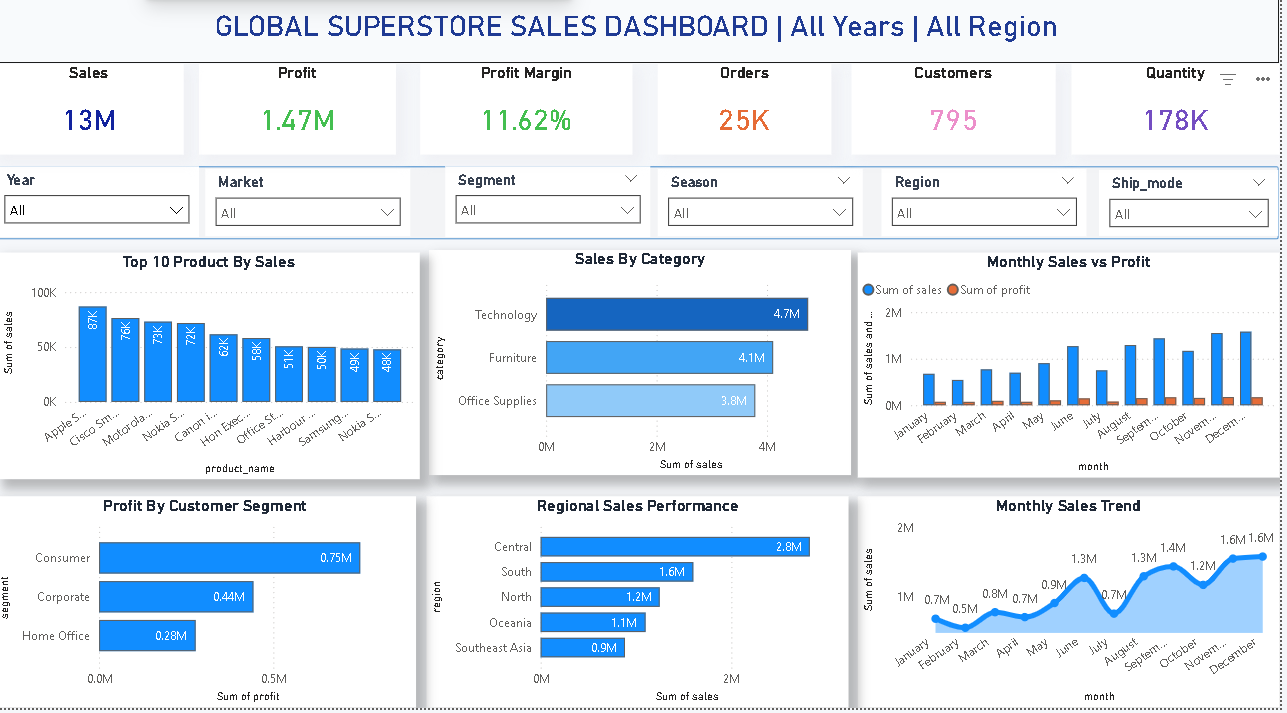

What the dashboard file says about the page in this screenshot:
{"tool":"powerbi","page":{"name":"Sales Dashboard","canvas":[1280,720],"ordinal":0},"visuals":[{"type":"shape","box":[0,180,1278.6,72.9],"z":0},{"type":"slicer","fields":{"Values":["super_store_raw_data - super_store_raw_data csv (4) - Super_Store_Data (1).season"]},"box":[660,182.9,204.3,67.1],"z":1000},{"type":"slicer","fields":{"Values":["super_store_raw_data - super_store_raw_data csv (4) - Super_Store_Data (1).market"]},"box":[210,182.9,204.3,67.1],"z":2000},{"type":"slicer","fields":{"Values":["super_store_raw_data - super_store_raw_data csv (4) - Super_Store_Data (1).year"]},"box":[0,180,204.3,70],"z":3000},{"type":"slicer","fields":{"Values":["super_store_raw_data - super_store_raw_data csv (4) - Super_Store_Data (1).ship_mode"]},"box":[1100,184.3,178.6,65.7],"z":4000},{"type":"slicer","fields":{"Values":["super_store_raw_data - super_store_raw_data csv (4) - Super_Store_Data (1).segment"]},"box":[448.6,180,204,70],"z":5000},{"type":"slicer","fields":{"Values":["super_store_raw_data - super_store_raw_data csv (4) - Super_Store_Data (1).region"]},"box":[882.9,182.9,204.3,67.1],"z":6000},{"type":"card","title":"Orders","fields":{"Values":["super_store_raw_data - super_store_raw_data csv (4) - Super_Store_Data (1).Total_Orders"]},"box":[660,78.6,172.9,90],"z":7000},{"type":"card","title":"Profit","fields":{"Values":["super_store_raw_data - super_store_raw_data csv (4) - Super_Store_Data (1).Total_Profit"]},"box":[204.3,78.6,195.7,90],"z":8000},{"type":"card","title":"Sales","fields":{"Values":["super_store_raw_data - super_store_raw_data csv (4) - Super_Store_Data (1).Total_Sales"]},"box":[0,78.6,188.6,90],"z":9000},{"type":"card","title":"Customers","fields":{"Values":["super_store_raw_data - super_store_raw_data csv (4) - Super_Store_Data (1).Total_Custommers"]},"box":[852.9,78.6,202.9,90],"z":10000},{"type":"card","title":"Quantity","fields":{"Values":["super_store_raw_data - super_store_raw_data csv (4) - Super_Store_Data (1).Total_Quantity"]},"box":[1072.9,78.6,207.1,90],"z":11000},{"type":"barChart","title":"Sales By Category","fields":{"Category":["super_store_raw_data - super_store_raw_data csv (4) - Super_Store_Data (1).category"],"Y":["Sum(super_store_raw_data - super_store_raw_data csv (4) - Super_Store_Data (1).sales)"]},"box":[432.9,264.3,420,224.3],"z":12000},{"type":"card","title":"Profit Margin","fields":{"Values":["super_store_raw_data - super_store_raw_data csv (4) - Super_Store_Data (1).Profit_Margin %"]},"box":[424.3,78.6,211.4,90],"z":13000},{"type":"lineChart","title":"Monthly Sales Trend  ","fields":{"Y":["Sum(super_store_raw_data - super_store_raw_data csv (4) - Super_Store_Data (1).sales)"],"Category":["super_store_raw_data - super_store_raw_data csv (4) - Super_Store_Data (1).month"]},"box":[860,508.6,420,210],"z":14000},{"type":"barChart","title":"Regional Sales Performance","fields":{"Category":["super_store_raw_data - super_store_raw_data csv (4) - Super_Store_Data (1).region"],"Y":["Sum(super_store_raw_data - super_store_raw_data csv (4) - Super_Store_Data (1).sales)"]},"box":[430,508.6,420,210],"z":15000},{"type":"clusteredColumnChart","title":"Top 10 Product By Sales","fields":{"Category":["super_store_raw_data - super_store_raw_data csv (4) - Super_Store_Data (1).product_name"],"Y":["Sum(super_store_raw_data - super_store_raw_data csv (4) - Super_Store_Data (1).sales)"]},"box":[4.3,265.7,420,225.7],"z":16000},{"type":"barChart","title":"Profit By Customer Segment","fields":{"Category":["super_store_raw_data - super_store_raw_data csv (4) - Super_Store_Data (1).segment"],"Y":["Sum(super_store_raw_data - super_store_raw_data csv (4) - Super_Store_Data (1).profit)"]},"box":[0,508.6,420,210],"z":17000},{"type":"clusteredColumnChart","title":"Monthly Sales vs Profit","fields":{"Y":["Sum(super_store_raw_data - super_store_raw_data csv (4) - Super_Store_Data (1).sales)","Sum(super_store_raw_data - super_store_raw_data csv (4) - Super_Store_Data (1).profit)"],"Category":["super_store_raw_data - super_store_raw_data csv (4) - Super_Store_Data (1).month"]},"box":[860,265.7,420,224],"z":18000},{"type":"card","fields":{"Values":["SalesData.Dashboard Title"]},"box":[0,0,1278.6,78.6],"z":19000}]}

Visuals, with their boxes in screenshot pixels (x1, y1, x2, y2), scaled from the page's 1280x720 canvas onto the 1287x713 screenshot:
shape: x1=0 y1=178 x2=1286 y2=250
slicer - super_store_raw_data - super_store_raw_data csv (4) - Super_Store_Data (1).season: x1=664 y1=181 x2=869 y2=248
slicer - super_store_raw_data - super_store_raw_data csv (4) - Super_Store_Data (1).market: x1=211 y1=181 x2=417 y2=248
slicer - super_store_raw_data - super_store_raw_data csv (4) - Super_Store_Data (1).year: x1=0 y1=178 x2=205 y2=248
slicer - super_store_raw_data - super_store_raw_data csv (4) - Super_Store_Data (1).ship_mode: x1=1106 y1=183 x2=1286 y2=248
slicer - super_store_raw_data - super_store_raw_data csv (4) - Super_Store_Data (1).segment: x1=451 y1=178 x2=656 y2=248
slicer - super_store_raw_data - super_store_raw_data csv (4) - Super_Store_Data (1).region: x1=888 y1=181 x2=1093 y2=248
"Orders" card: x1=664 y1=78 x2=837 y2=167
"Profit" card: x1=205 y1=78 x2=402 y2=167
"Sales" card: x1=0 y1=78 x2=190 y2=167
"Customers" card: x1=858 y1=78 x2=1062 y2=167
"Quantity" card: x1=1079 y1=78 x2=1286 y2=167
"Sales By Category" barChart: x1=435 y1=262 x2=858 y2=484
"Profit Margin" card: x1=427 y1=78 x2=639 y2=167
"Monthly Sales Trend  " lineChart: x1=865 y1=504 x2=1286 y2=712
"Regional Sales Performance" barChart: x1=432 y1=504 x2=855 y2=712
"Top 10 Product By Sales" clusteredColumnChart: x1=4 y1=263 x2=427 y2=487
"Profit By Customer Segment" barChart: x1=0 y1=504 x2=422 y2=712
"Monthly Sales vs Profit" clusteredColumnChart: x1=865 y1=263 x2=1286 y2=485
card - SalesData.Dashboard Title: x1=0 y1=0 x2=1286 y2=78
